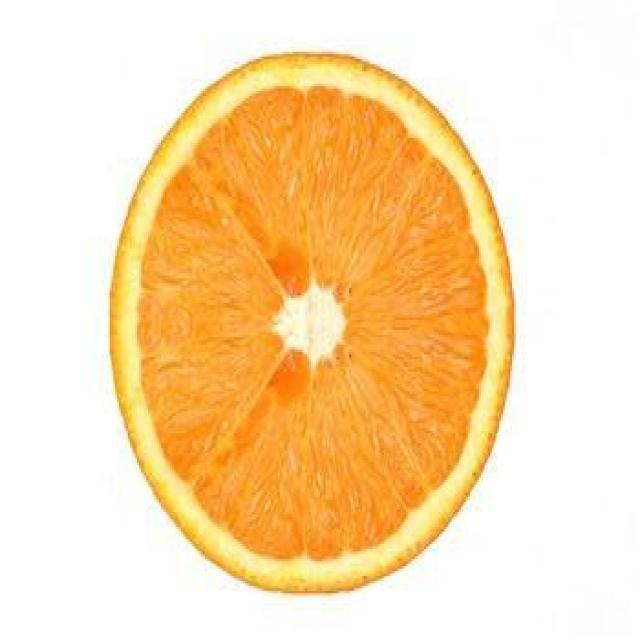orange: (101, 44, 517, 606)
